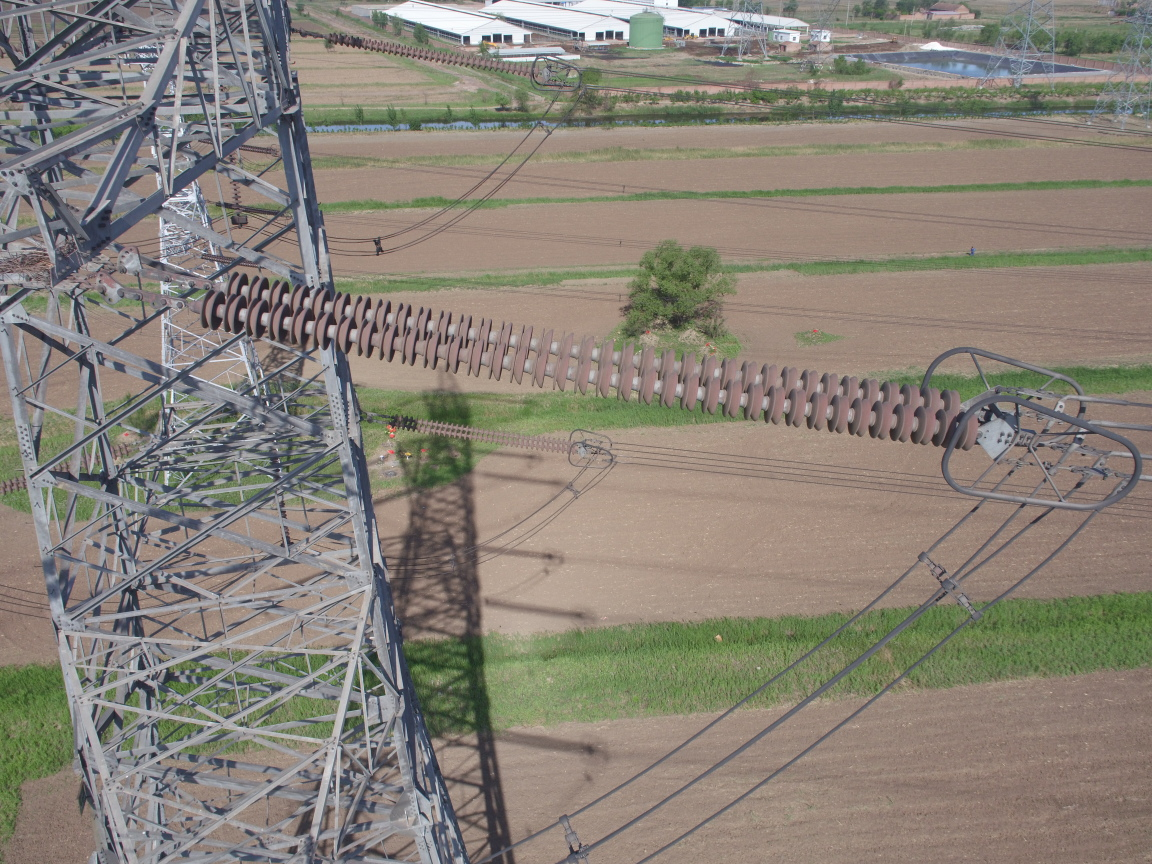insulator: (163, 266, 990, 453), (314, 29, 545, 81), (382, 410, 582, 456)
